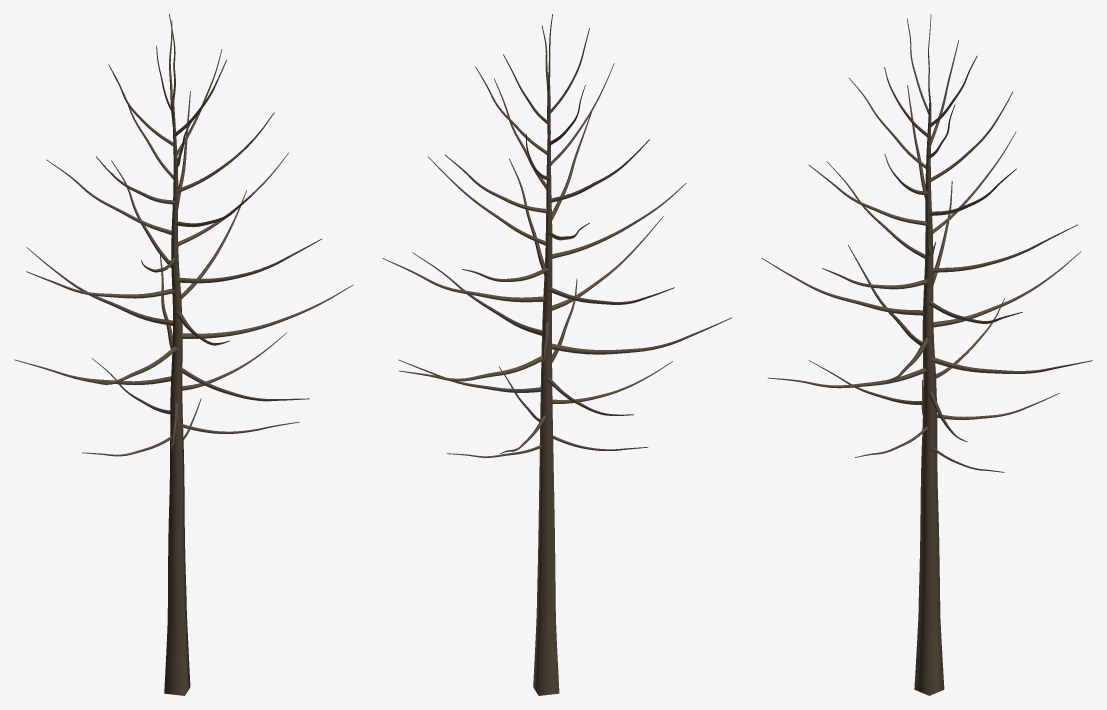
The model's file is tree_007.fbx.
3 renders of one model, left to right at view 1: azimuth 30°, elevation 25°; view 2: azimuth 150°, elevation 25°; view 3: azimuth 270°, elevation 25°, orthographic.
Visible parts, largest first — view 1: tree; view 2: tree; view 3: tree.
Boxes of the visible parts, x1=… form: tree: x1=14, y1=14, x2=353, y2=695; tree: x1=382, y1=14, x2=732, y2=695; tree: x1=761, y1=14, x2=1092, y2=695.
Bounding box in the file's own units: 826 × 1783 × 797.
